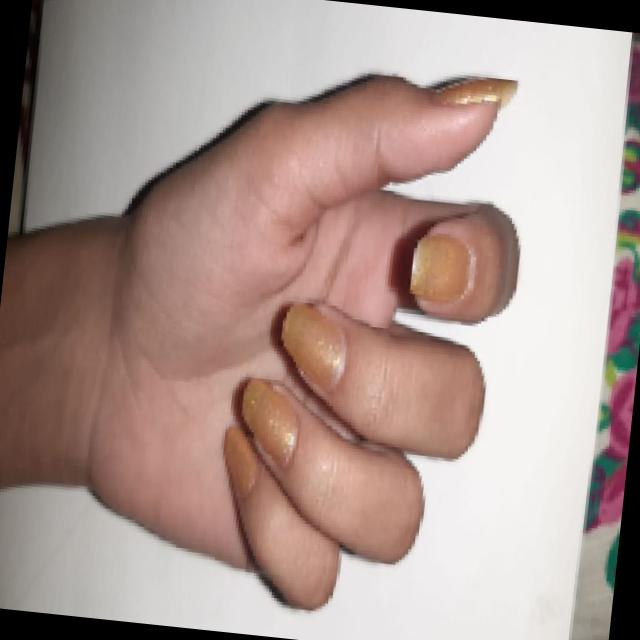Nail: (281, 303, 347, 391), (241, 377, 298, 467), (410, 232, 470, 301), (223, 426, 257, 493), (438, 77, 515, 105)
